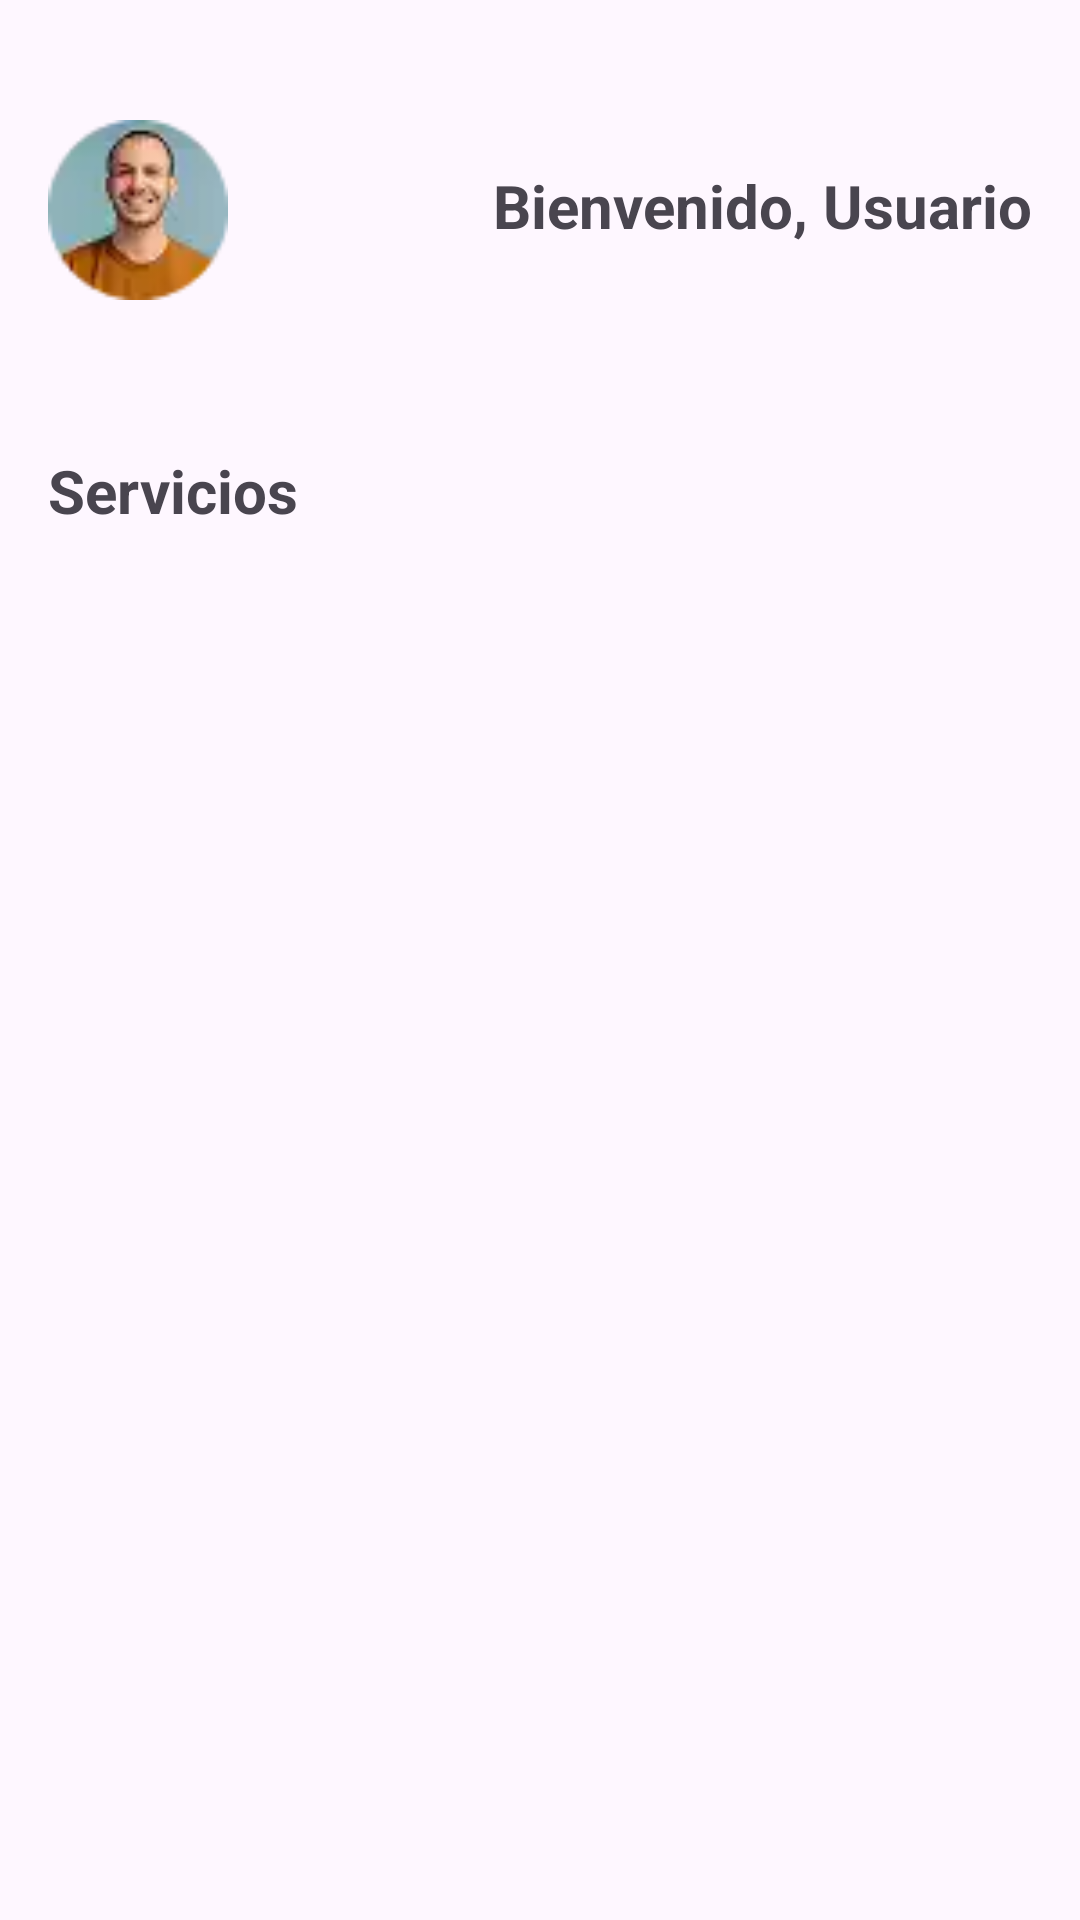

Named icons in this screenshot (1080×1920) and their centers, (x=x, y=y):
Foto de perfil del usuario: (x=138, y=210)
